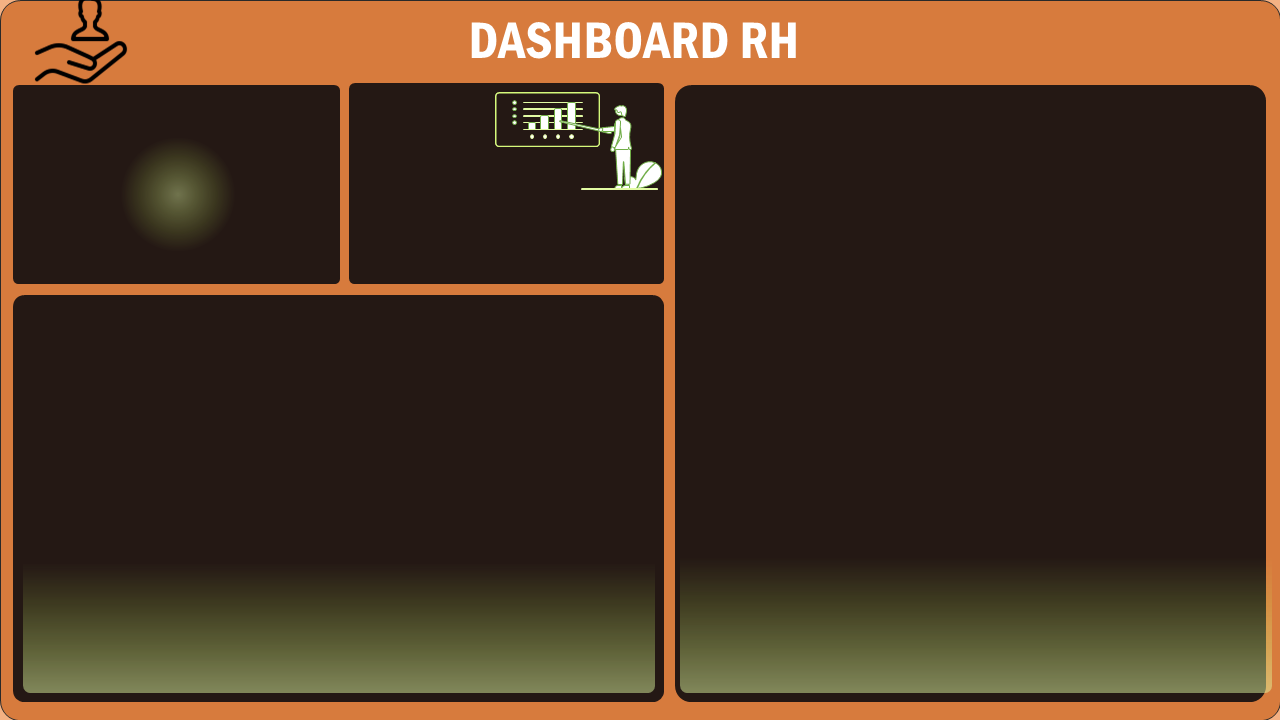

The page's visual inventory and layout, read from the dashboard file:
{"tool":"powerbi","page":{"name":"Página 1","canvas":[1280,720],"ordinal":0},"visuals":[{"type":"multiRowCard","title":"Funcionarios Ativos","fields":{"Values":["BASE.Funcionarios"]},"box":[348,97.6,151.4,79.2],"z":0},{"type":"multiRowCard","title":"Turnover ","fields":{"Values":["BASE.% Turnover"]},"box":[517.7,198,147.1,93.4],"z":1000},{"type":"multiRowCard","title":"Contratações","fields":{"Values":["BASE.Total Contratacoes"]},"box":[15.6,97.6,158.4,79.2],"z":2000},{"type":"multiRowCard","title":"Demissões","fields":{"Values":["BASE.Demissoes"]},"box":[349.4,198,149.9,82],"z":3000},{"type":"funnel","fields":{"Category":["BASE.Cidade"],"Y":["BASE.Funcionarios"]},"box":[15.6,308.4,370.6,381.9],"z":4000},{"type":"donutChart","fields":{"Category":["BASE.Genero"],"Y":["BASE.Funcionarios"]},"box":[386.2,308.4,278.7,381.9],"z":5000},{"type":"decompositionTreeVisual","fields":{"Analyze":["BASE.Funcionarios"],"ExplainBy":["BASE.Cargo","BASE.Área"]},"box":[676.1,86.3,592.7,604],"z":6000},{"type":"PBI_CV_25997FEB_F466_44FA_B562_AC4063283C4C","fields":{"axis":["BASE.Data de Contratacao.Variation.Hierarquia de datas.Ano"],"measure":["BASE.Total Contratacoes"]},"box":[0,147.1,348,133],"z":7000}]}

Visuals, with their boxes in screenshot pixels (x1, y1, x2, y2), scaled from the page's 1280x720 canvas onto the 1280x720 screenshot:
"Funcionarios Ativos" multiRowCard: region(348, 98, 499, 177)
"Turnover " multiRowCard: region(518, 198, 665, 291)
"Contratações" multiRowCard: region(16, 98, 174, 177)
"Demissões" multiRowCard: region(349, 198, 499, 280)
funnel - BASE.Cidade x BASE.Funcionarios: region(16, 308, 386, 690)
donutChart - BASE.Genero x BASE.Funcionarios: region(386, 308, 665, 690)
decompositionTreeVisual - BASE.Funcionarios x BASE.Cargo: region(676, 86, 1269, 690)
PBI_CV_25997FEB_F466_44FA_B562_AC4063283C4C - BASE.Data de Contratacao.Variation.Hierarquia de datas.Ano x BASE.Total Contratacoes: region(0, 147, 348, 280)
